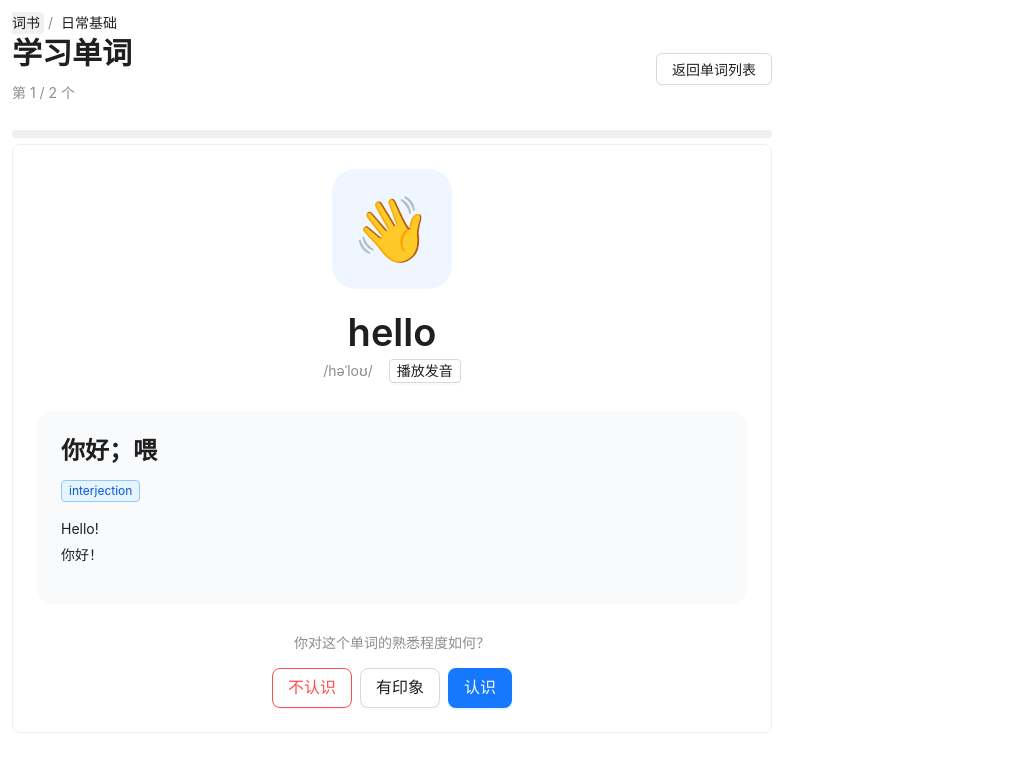
it: LearnPage › puts an unfamiliar word back at the end of the queue
Expected: the heading "hello" is shown, [348, 309, 436, 355]
Click the button "不认识".
click(312, 688)  # box [272, 668, 352, 708]
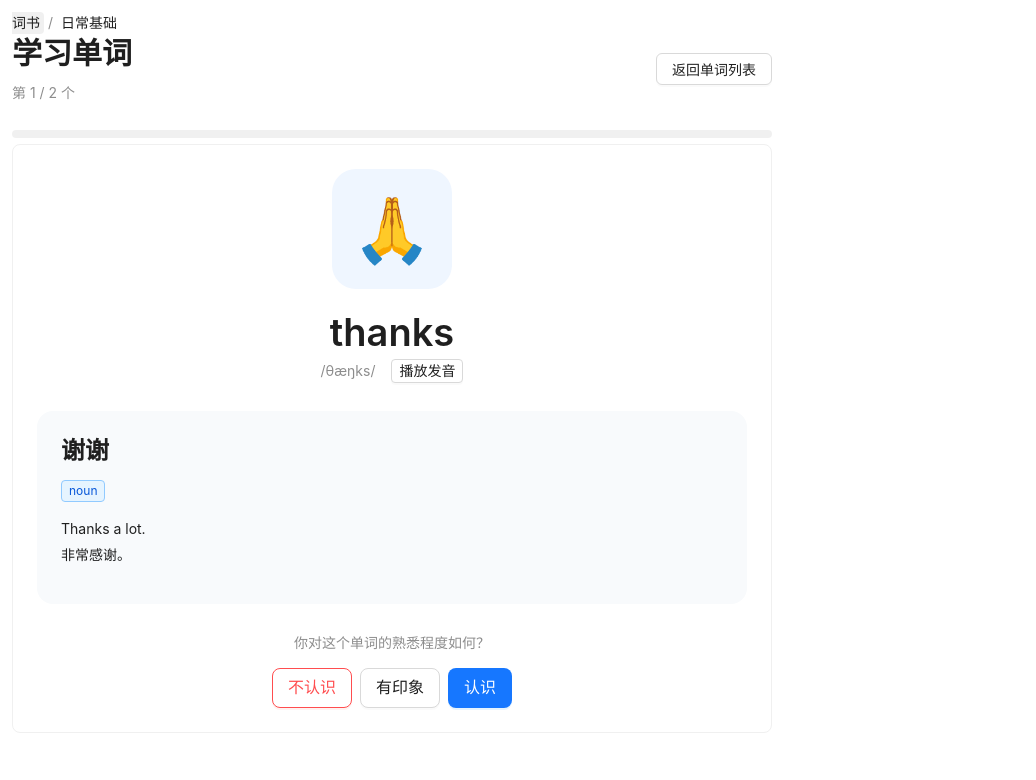
Expected: the heading "thanks" is shown, [330, 309, 454, 355]
